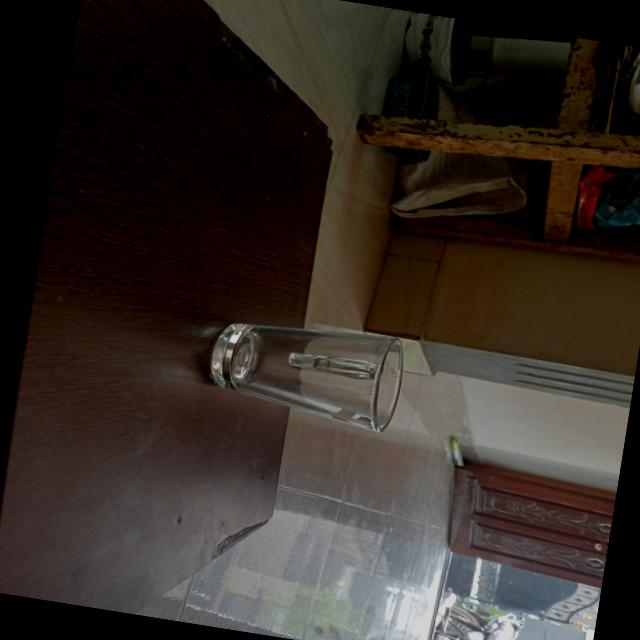glass-VX4N: (200, 306, 413, 432)
